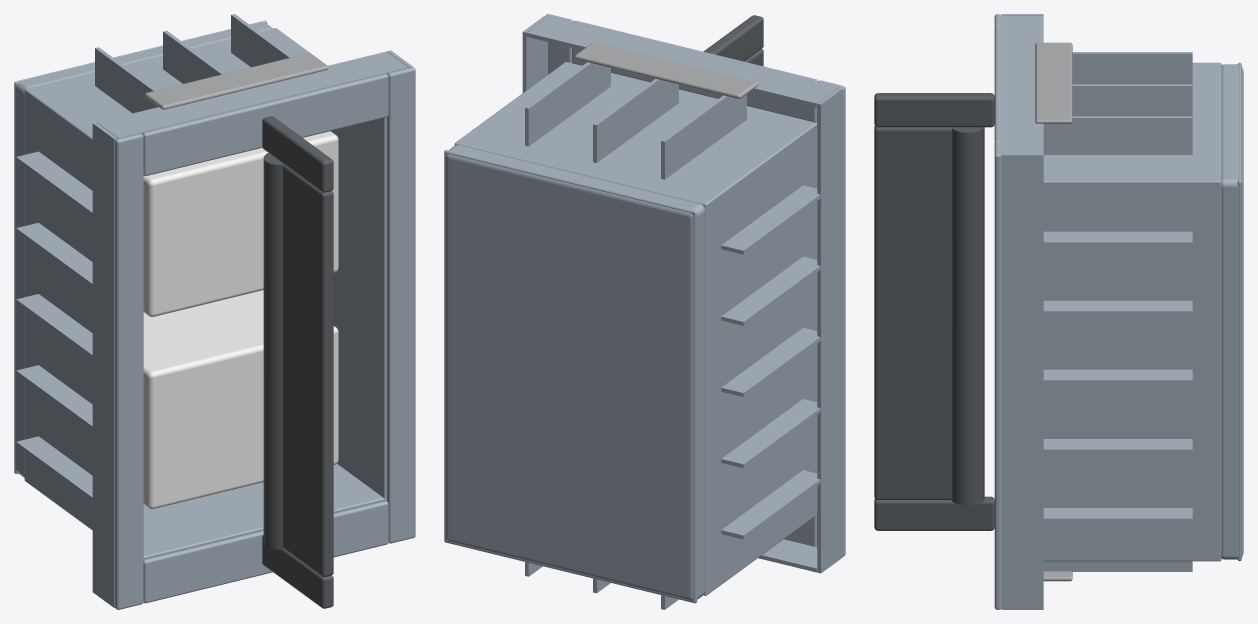
3 views of the same model, side by side, from view 1: azimuth 30°, elevation 25°; view 2: azimuth 150°, elevation 25°; view 3: azimuth 270°, elevation 25° (orthographic). The views are drawn at different scales.
Parts seen in each view (by area): view 1: /World/Totes/A07/Visual/TotePolypropylene, /World/Totes/A07, /World/Totes/A07/Visual/ToteRail, /World/Totes/A07/Visual/PlasticGrey; view 2: /World/Totes/A07/Visual/TotePolypropylene, /World/Totes/A07/Visual/PlasticGrey, /World/Totes/A07/Visual/ToteRail; view 3: /World/Totes/A07/Visual/TotePolypropylene, /World/Totes/A07/Visual/ToteRail, /World/Totes/A07/Visual/PlasticGrey.
Part boxes in pixels (x1=…): /World/Totes/A07/Visual/TotePolypropylene: x1=14, y1=14, x2=415, y2=609; /World/Totes/A07: x1=143, y1=131, x2=338, y2=509; /World/Totes/A07/Visual/ToteRail: x1=262, y1=116, x2=333, y2=608; /World/Totes/A07/Visual/PlasticGrey: x1=144, y1=53, x2=328, y2=109; /World/Totes/A07/Visual/TotePolypropylene: x1=444, y1=14, x2=845, y2=609; /World/Totes/A07/Visual/PlasticGrey: x1=575, y1=42, x2=758, y2=99; /World/Totes/A07/Visual/ToteRail: x1=703, y1=15, x2=763, y2=66; /World/Totes/A07/Visual/TotePolypropylene: x1=994, y1=14, x2=1243, y2=609; /World/Totes/A07/Visual/ToteRail: x1=874, y1=93, x2=994, y2=530; /World/Totes/A07/Visual/PlasticGrey: x1=1035, y1=42, x2=1072, y2=581.
Bounding box in the file's own units: 0.198 × 0.301 × 0.218.
